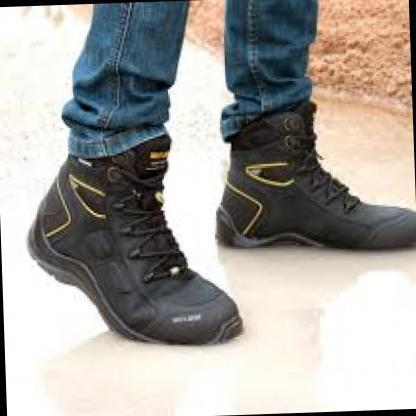safety-shoe: (28, 138, 241, 364), (204, 90, 415, 276)
